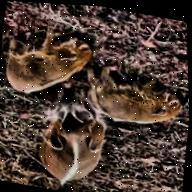boar: (48, 56, 186, 144), (0, 22, 96, 106), (32, 108, 110, 192)
